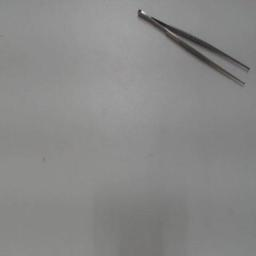Gillies Toothed Dissector: (134, 4, 254, 92)
